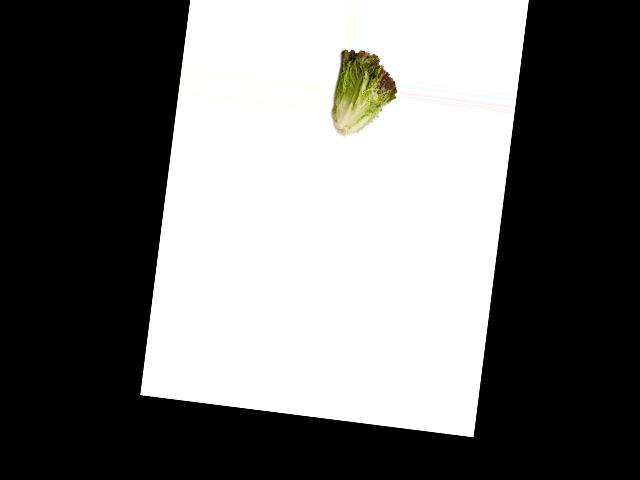lettuce: (330, 46, 400, 140)
